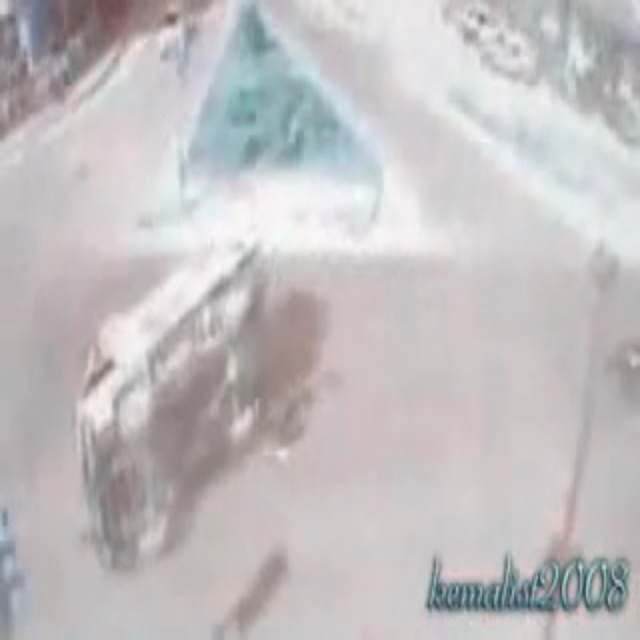acc: (66, 231, 303, 573)
